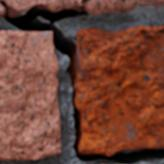brick: (74, 25, 163, 154), (0, 31, 60, 159)
broken_brick: (0, 0, 163, 14), (0, 4, 5, 18)
crack: (0, 1, 163, 163)
